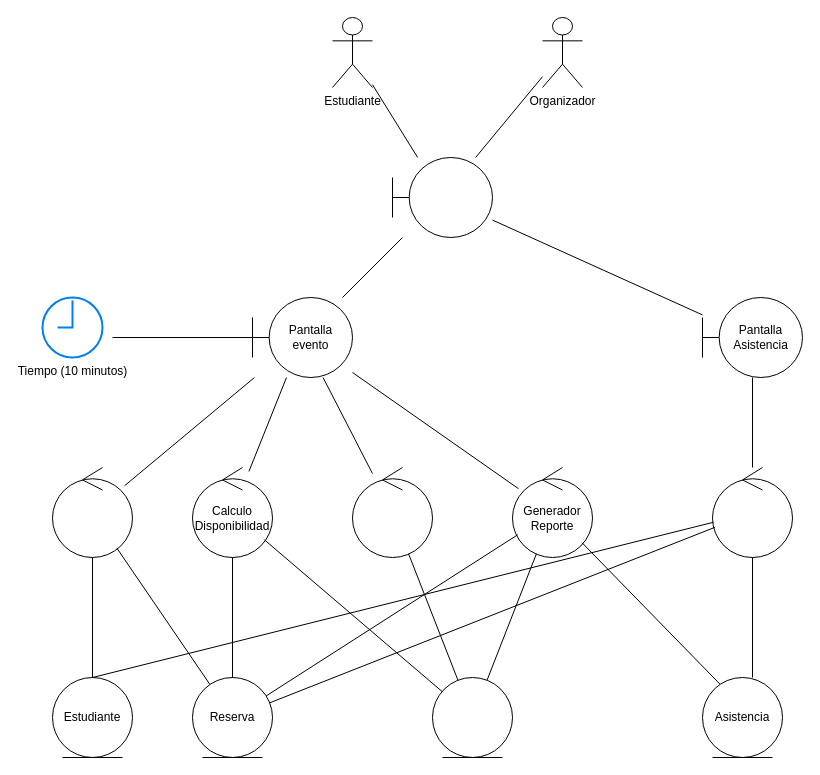
Image size: 820x775. Some labels were removed from this diagram. The centre of each missing label's shape, as x and y in pixels:
"Evento" goes at pixel 472 717.
"Gestion Asistencia" goes at pixel 752 512.
"Gestion Evento" goes at pixel 392 512.
"Gestion Reserva" goes at pixel 92 512.
"Interfaz campusFest" goes at pixel 442 197.
